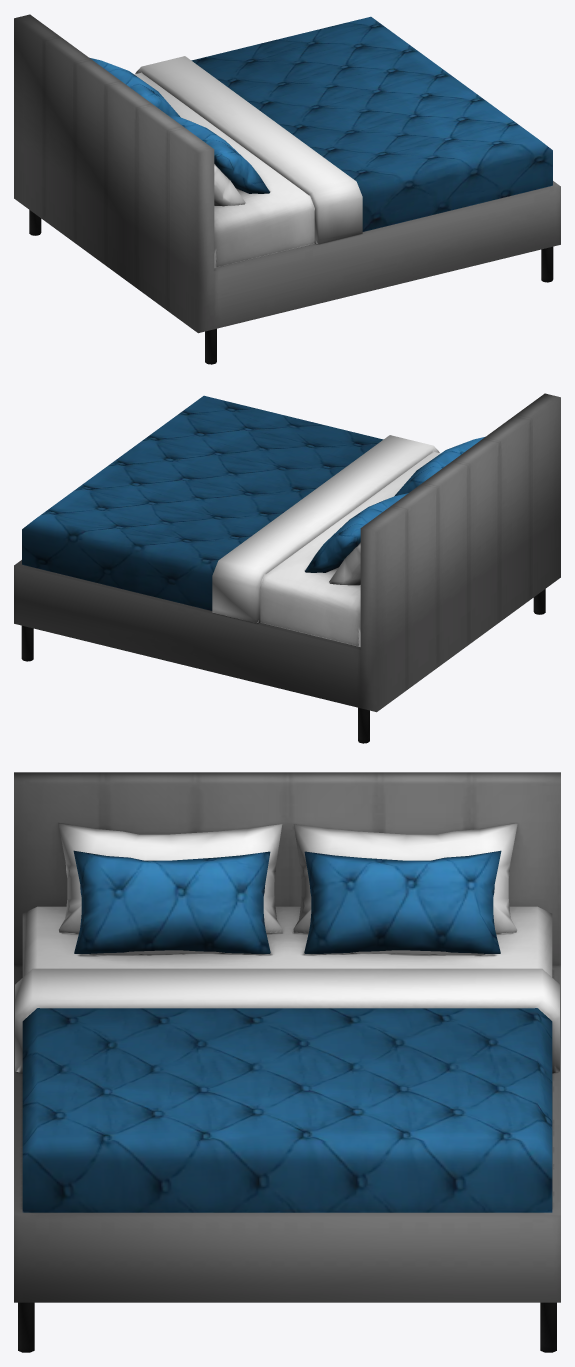
Rendered from bed_full02.glb.
3 renders of one model, top to bottom at view 1: azimuth 30°, elevation 25°; view 2: azimuth 150°, elevation 25°; view 3: azimuth 270°, elevation 25°, orthographic. The views are drawn at different scales.
Visible parts, largest first — view 1: full_bed02; view 2: full_bed02; view 3: full_bed02.
Part boxes in pixels (bbox=[...]): full_bed02: bbox=[14, 14, 560, 364]; full_bed02: bbox=[14, 393, 560, 743]; full_bed02: bbox=[14, 772, 560, 1352].
Size of the model in its own units: 1.69 by 0.9616 by 1.48.
Materials: 1 (1 with a texture image).
